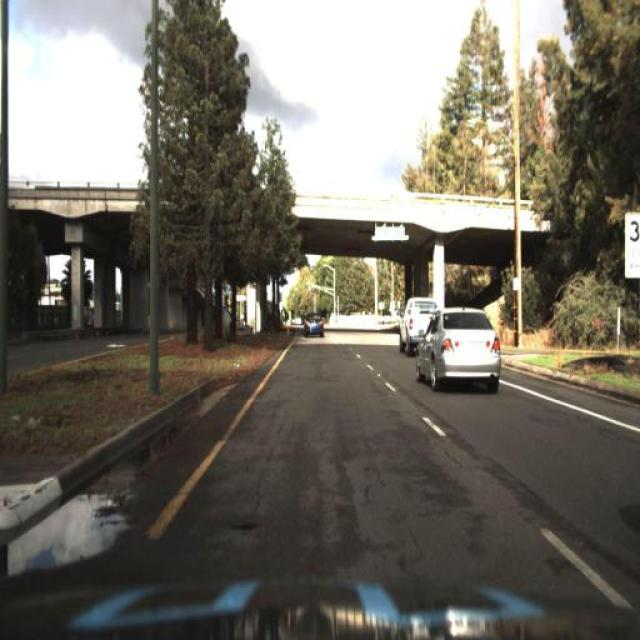car: (410, 300, 500, 395), (395, 290, 441, 350), (300, 308, 326, 343)
